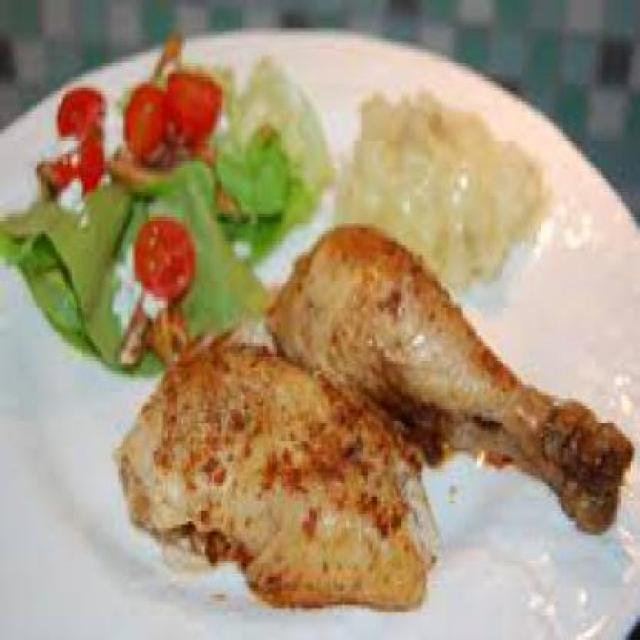Frango: (127, 220, 638, 609)
